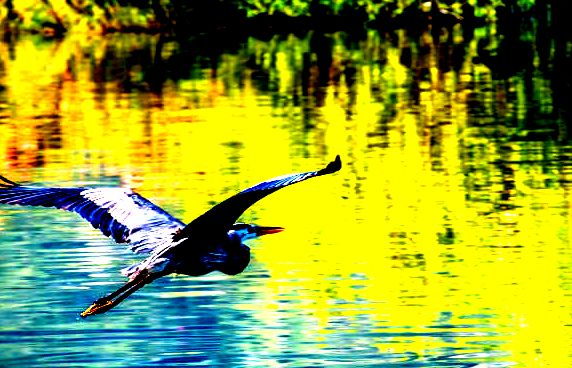Bird: (0, 153, 344, 318)
